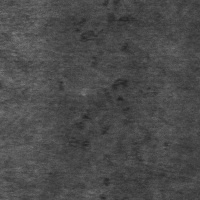rolled-in_scale: (72, 76, 132, 147)
